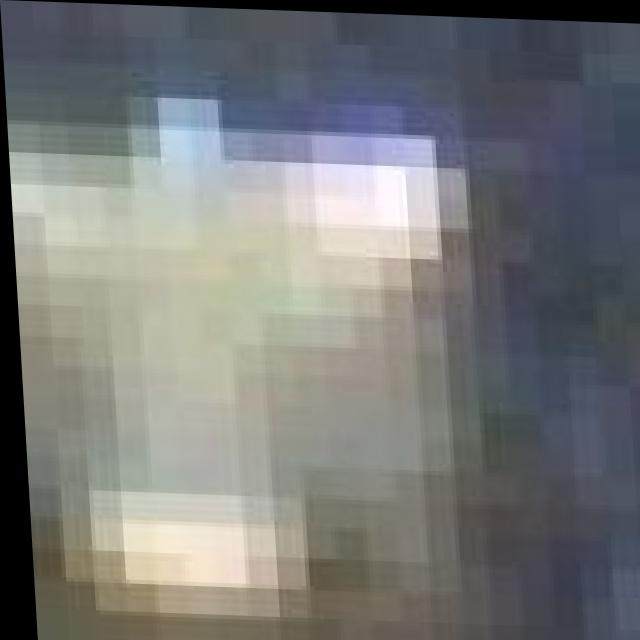transistor: (11, 232, 522, 640)
